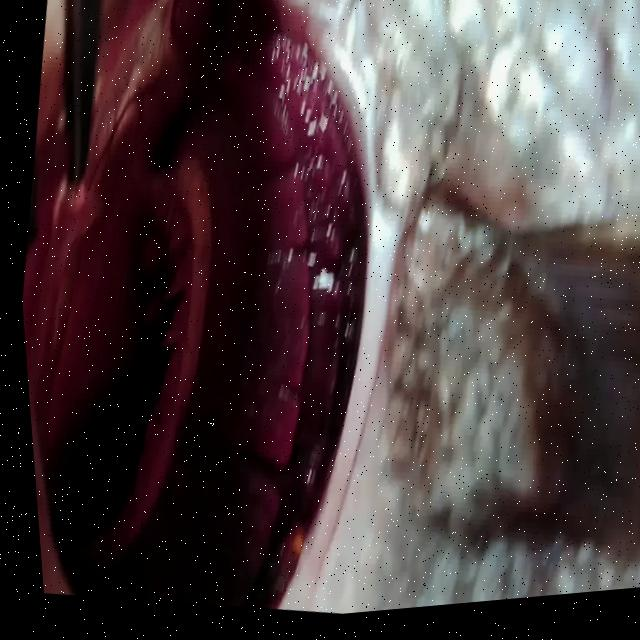Fresh: (0, 0, 458, 636)
